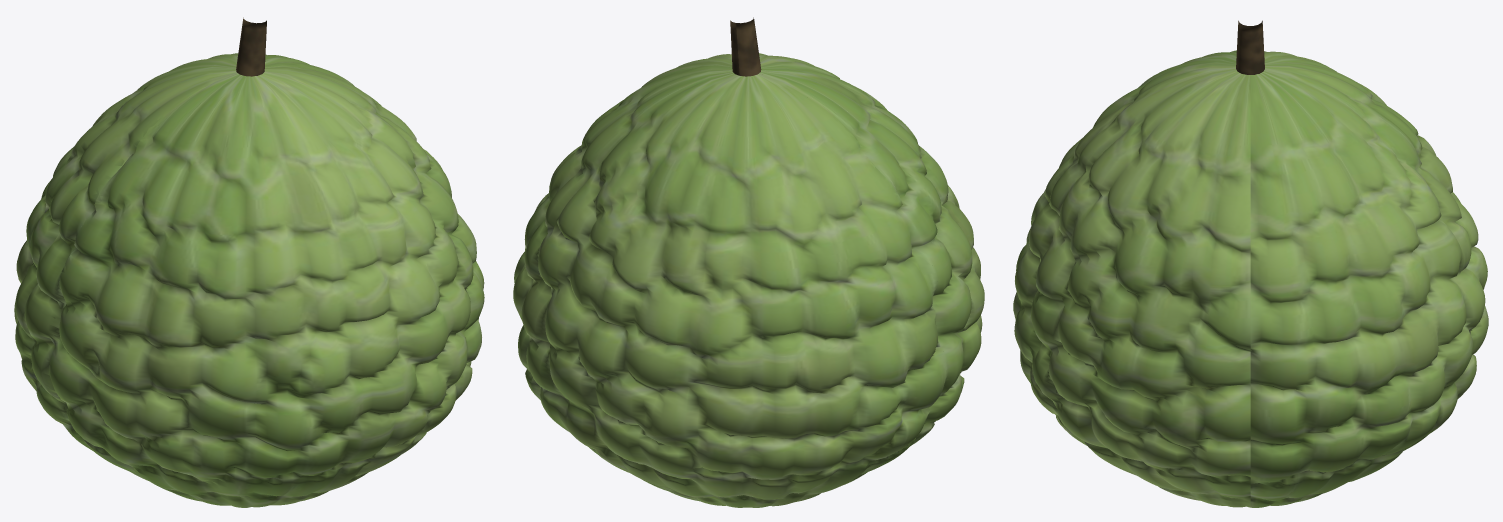
Rendered from pomme-cannelle.glb.
The picture shows the model from 3 angles, left to right: view 1: azimuth 30°, elevation 25°; view 2: azimuth 150°, elevation 25°; view 3: azimuth 270°, elevation 25°; orthographic projection.
Parts seen in each view (by area): view 1: entier_peau, moitie_A_peau, moitie_B_peau, entier_extra0; view 2: entier_peau, moitie_B_peau, moitie_A_peau, entier_extra0; view 3: entier_peau, moitie_B_peau, moitie_A_peau, entier_extra0.
Part boxes in pixels (x1,y1,x2,y2): entier_peau: [14, 53, 484, 507]; moitie_A_peau: [49, 65, 484, 507]; moitie_B_peau: [14, 53, 381, 450]; entier_extra0: [236, 17, 266, 76]; entier_peau: [513, 53, 984, 507]; moitie_B_peau: [513, 66, 947, 507]; moitie_A_peau: [617, 54, 984, 445]; entier_extra0: [730, 17, 761, 76]; entier_peau: [1014, 50, 1488, 507]; moitie_B_peau: [1250, 51, 1488, 507]; moitie_A_peau: [1013, 54, 1250, 506]; entier_extra0: [1236, 20, 1264, 74].
Bounding box in the file's own units: 0.0857 × 0.0951 × 0.0864.
3 materials, 3 textured.
